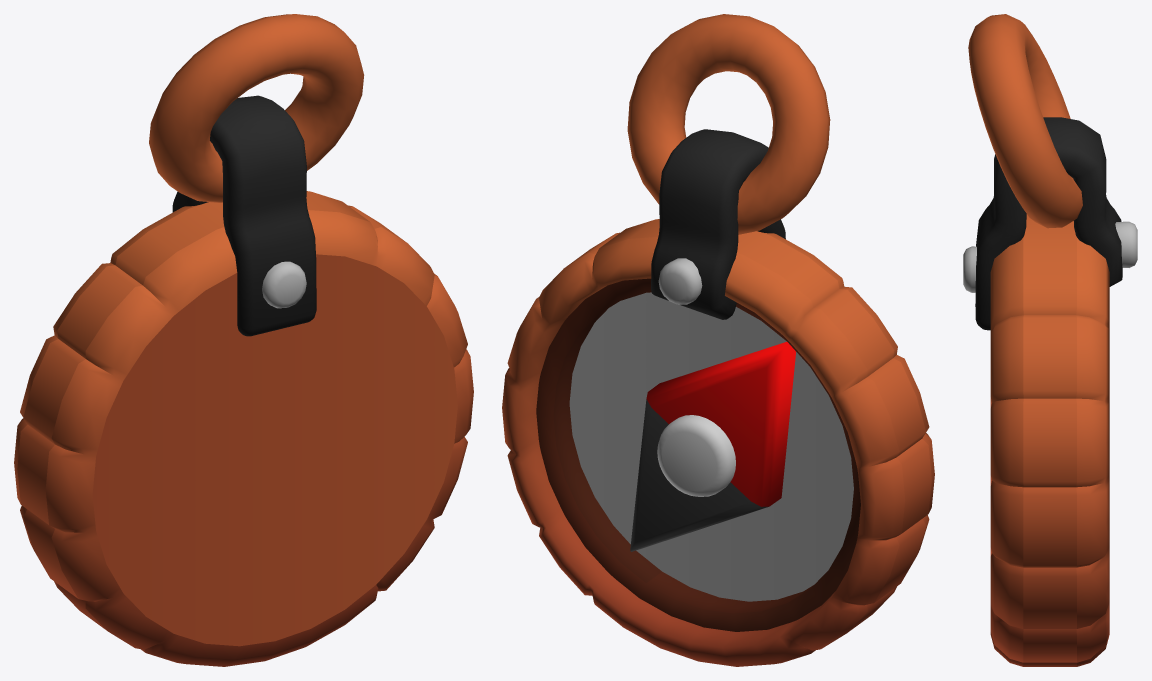
The model's file is Compass_V2_0.fbx.
3 renders of one model, left to right at view 1: azimuth 30°, elevation 25°; view 2: azimuth 150°, elevation 25°; view 3: azimuth 270°, elevation 25°, orthographic. The views are drawn at different scales.
Visible parts, largest first — view 1: Compass_V2_0; view 2: Compass_V2_0; view 3: Compass_V2_0.
Part boxes in pixels (x1=…): Compass_V2_0: x1=14, y1=14, x2=473, y2=666; Compass_V2_0: x1=502, y1=14, x2=934, y2=666; Compass_V2_0: x1=963, y1=14, x2=1137, y2=666.
Size of the model in its own units: 0.3906 by 0.5717 by 0.1457.
